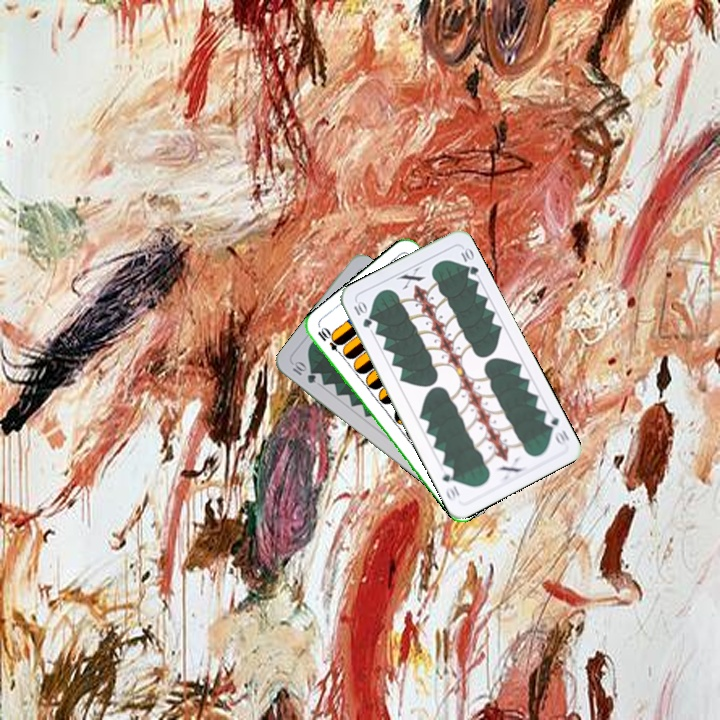E10: (313, 325, 345, 359)
G10: (540, 409, 572, 449), (288, 358, 319, 386), (350, 297, 374, 330)
